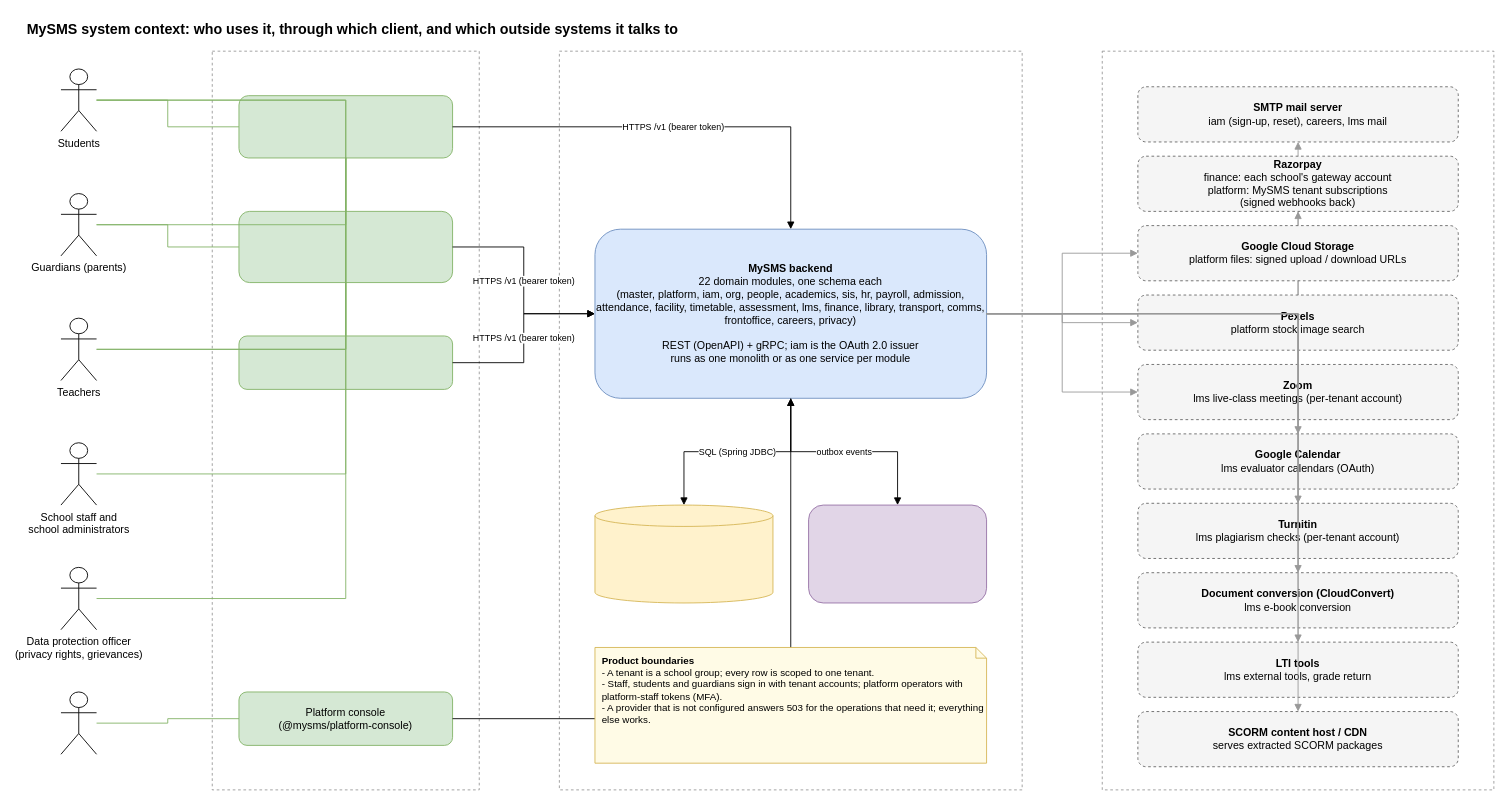
Some shapes in this 1509 by 805 pixel diagram are drawn without their labels. The shapes that lost their labels are listed below. From the top down, each one's box as (x1, y1, x2, y2) in pixels, then its label:
(238, 95, 453, 158): Web app (@mysms/web, React)
(238, 210, 453, 283): Phone apps (Expo) MySMS Student / Parent / Teacher (APP_VARIANT)
(238, 335, 453, 389): Tablet app MySMS Learn (Expo)
(211, 50, 479, 790): Clients (clients/apps)
(558, 50, 1022, 790): MySMS (one origin: web apps, /v1 REST, /oauth2/jwks)
(1101, 50, 1494, 790): External systems (configured per deployment or per tenant)
(594, 504, 773, 603): PostgreSQL 16 one schema per module row-level security per tenant
(808, 504, 987, 603): Event bus RabbitMQ (default), Google Cloud Pub/Sub or in-process
(60, 691, 97, 754): Platform operators (MySMS staff)
